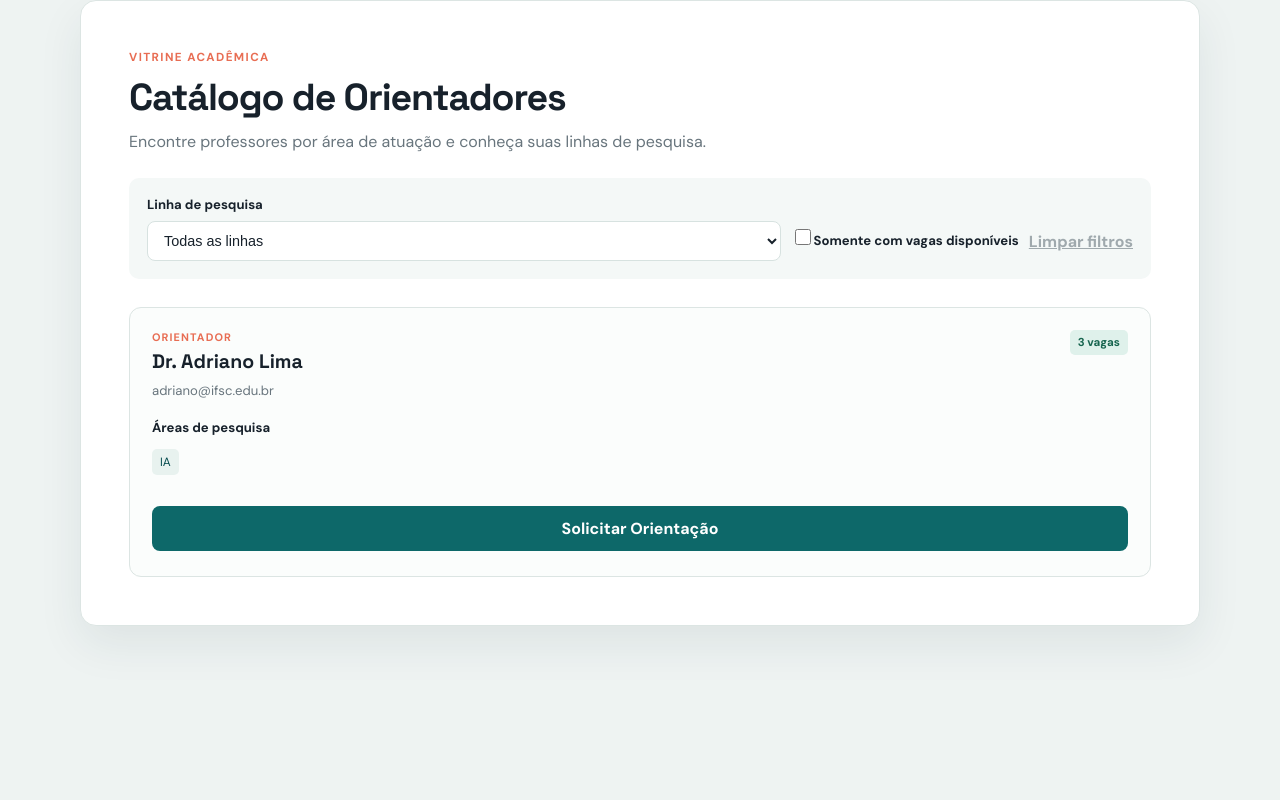
Scenario: OrientadorList › botão 'Limpar filtros' deve estar desabilitado sem filtros e habilitado após aplicá-los
Check: the button "Limpar filtros" is disabled, box x1=1029 y1=230 x2=1133 y2=252
Click the checkbox labelled "Somente com vagas disponíveis".
click(803, 236)  # box x1=795 y1=228 x2=811 y2=244
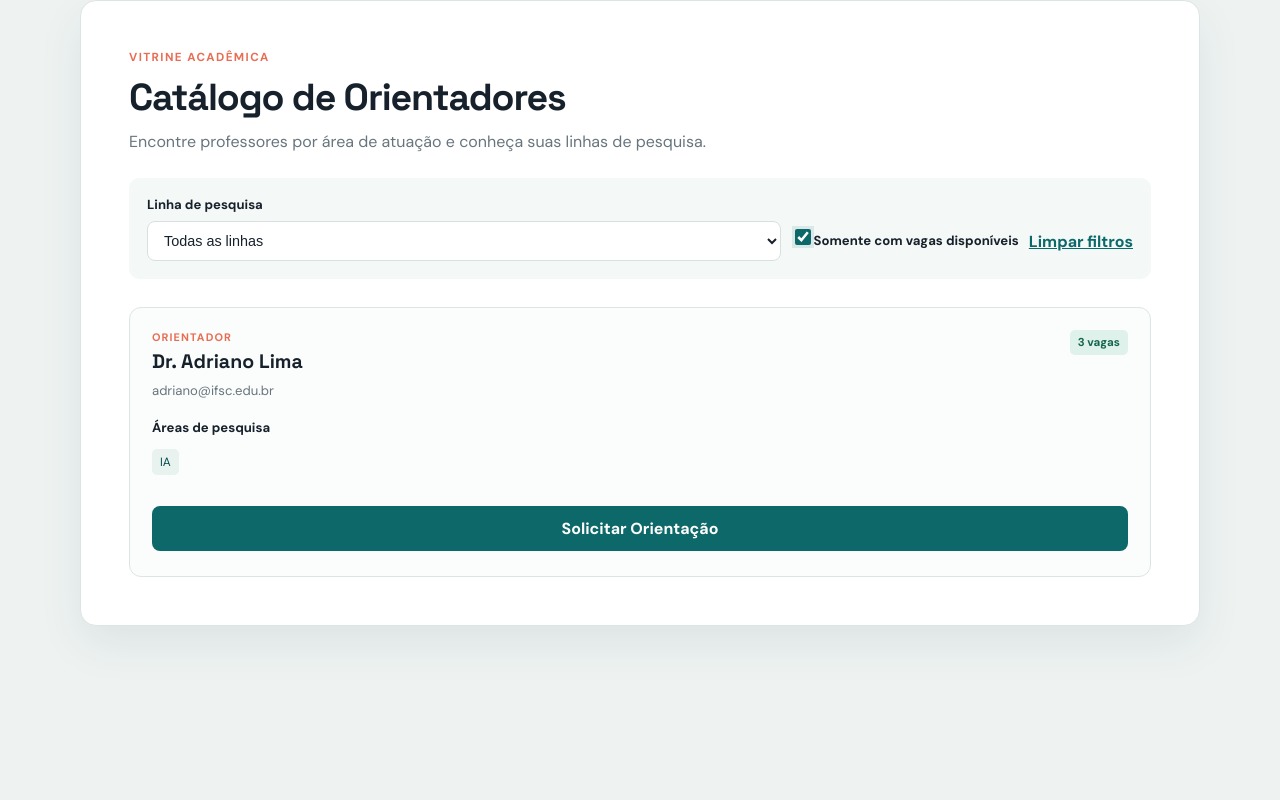
Check: the button "Limpar filtros" is enabled, box x1=1029 y1=230 x2=1133 y2=252
